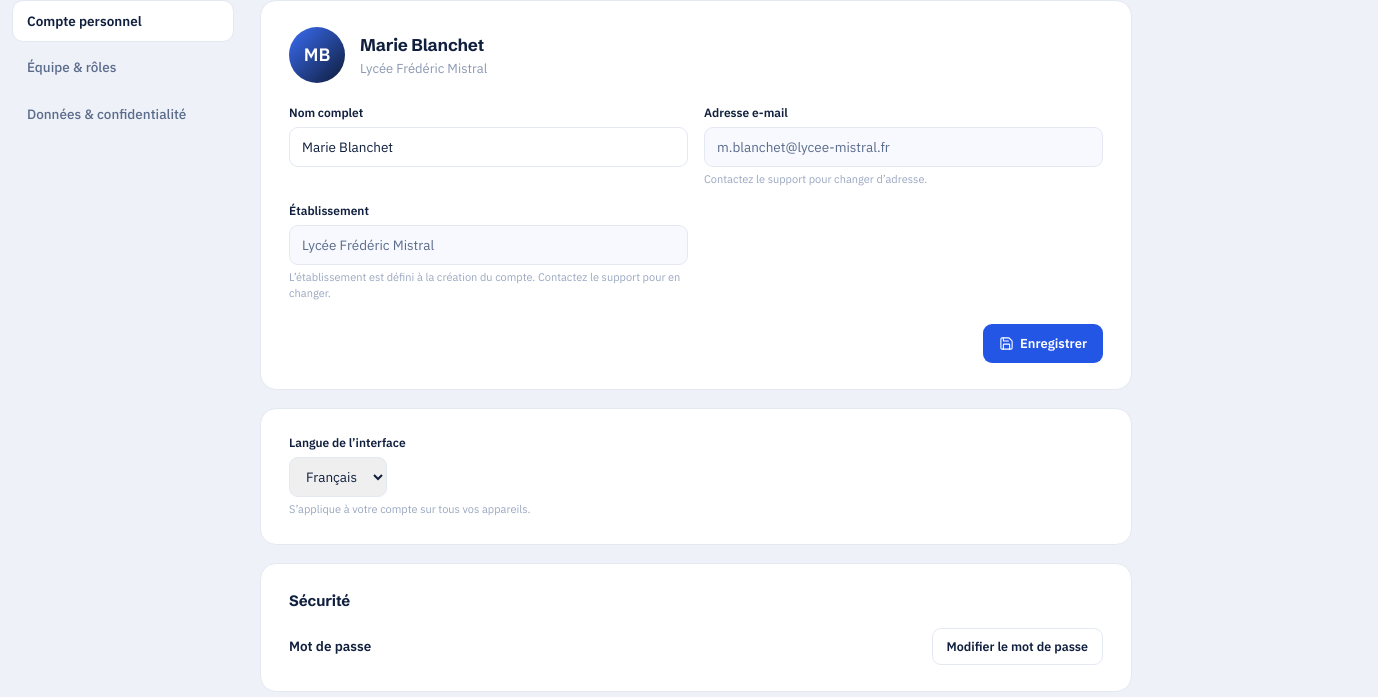
Test case: SettingsView — Compte › password panel: a structured failure is shown verbatim and the panel stays open
Click the button "Modifier le mot de passe": (1017, 646) [932,628,1103,665]
(page scrolled)
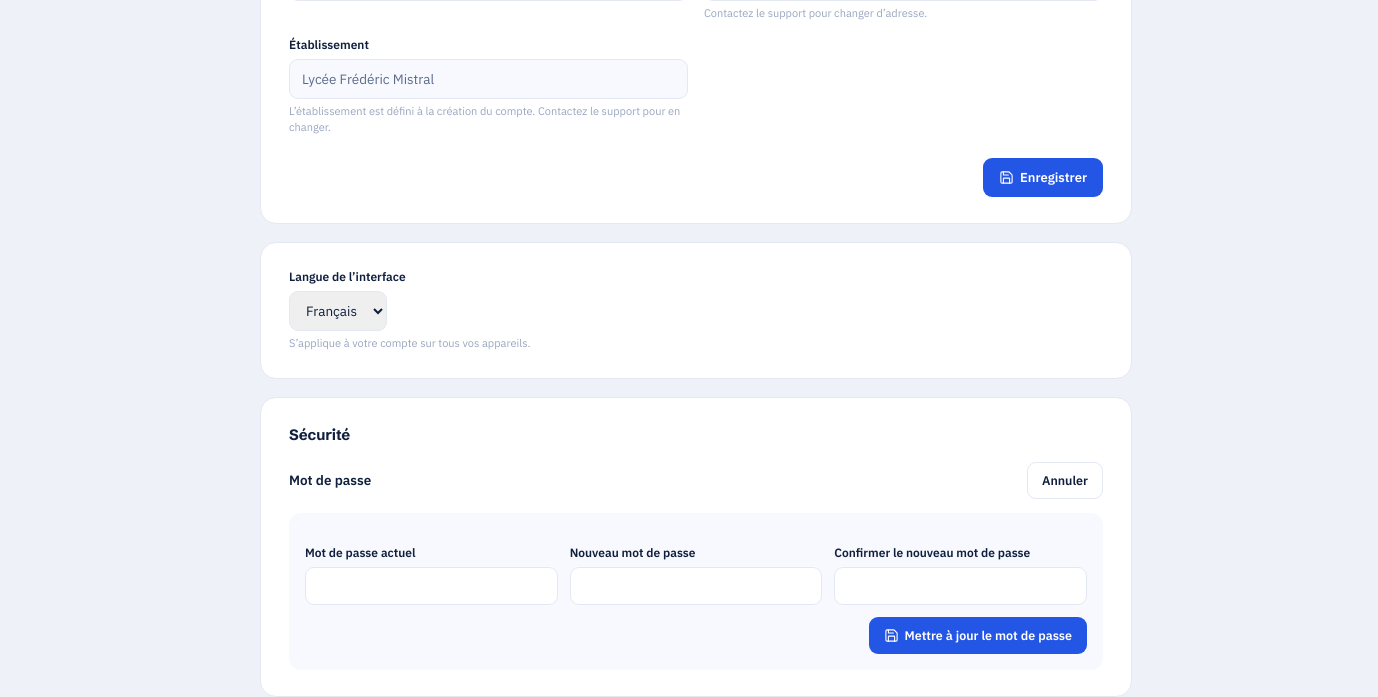
In the password field labelled "Mot de passe actuel": (431, 586) [305,567,558,605], type "wrongpassword"
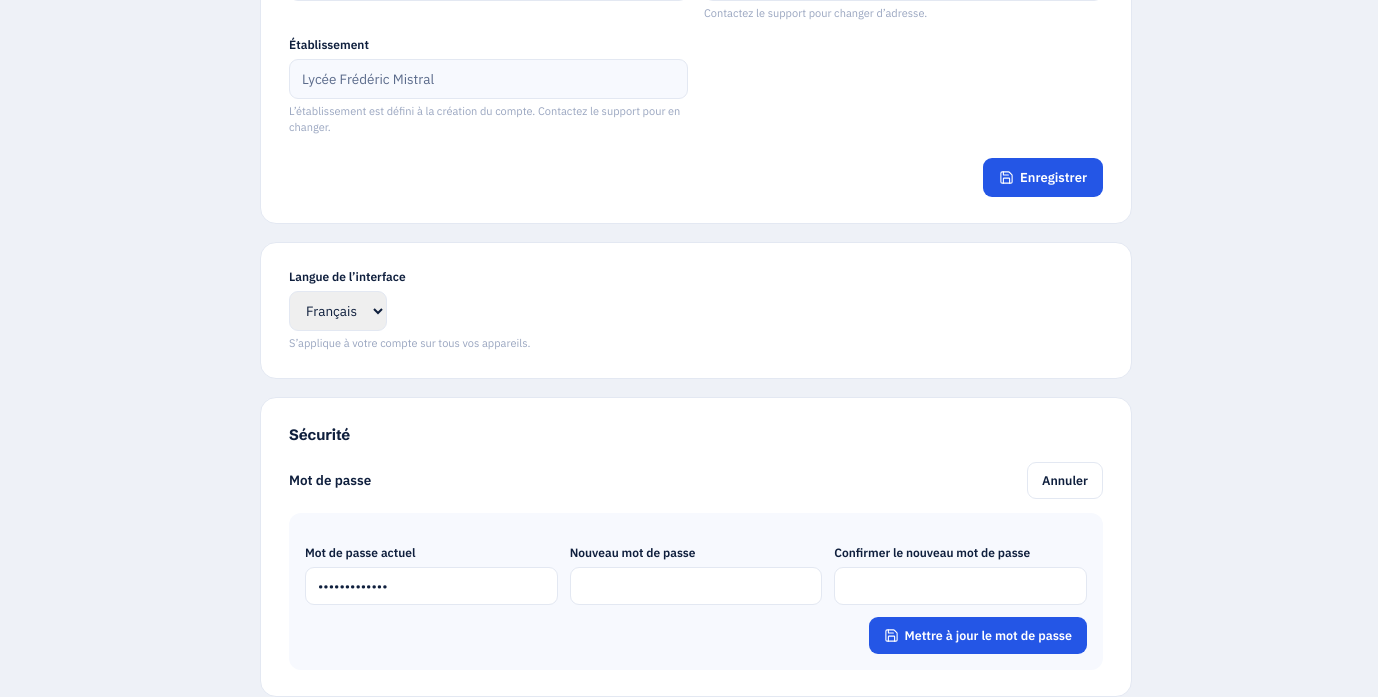
In the password field labelled "Nouveau mot de passe": (696, 586) [570,567,822,605], type "newpassword"
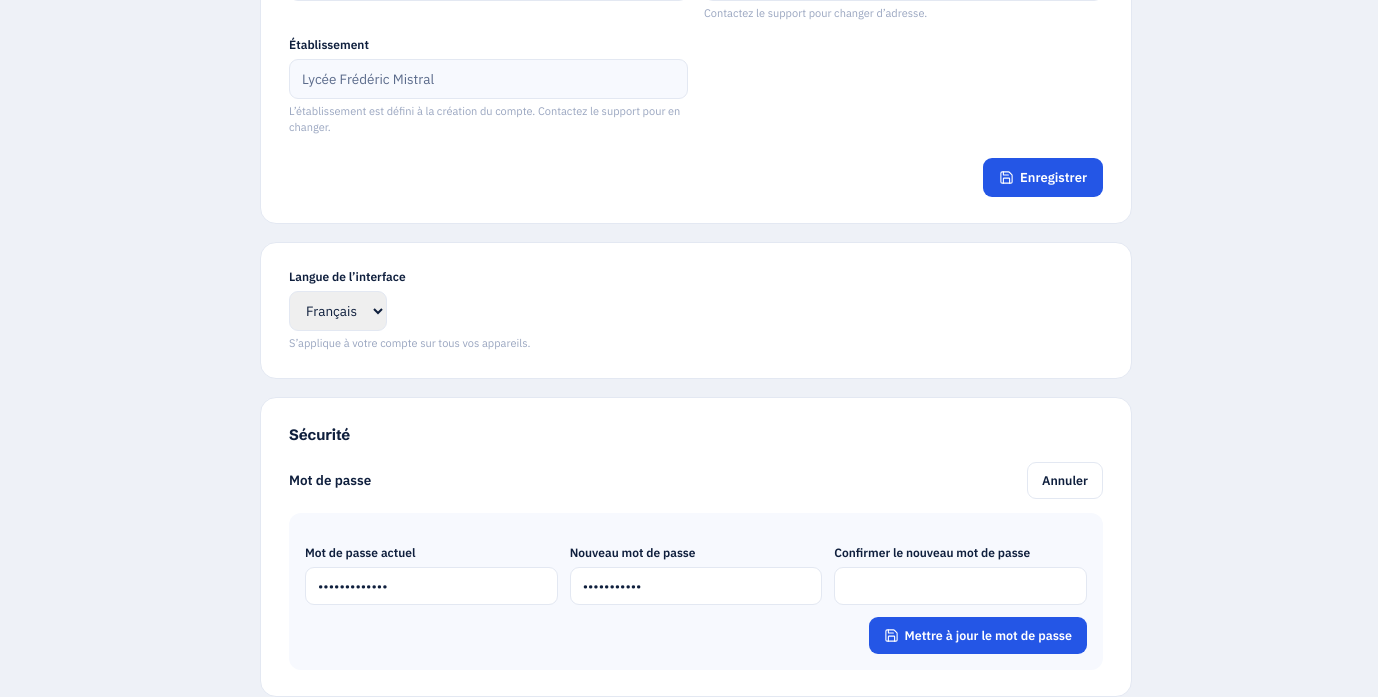
In the password field labelled "Confirmer le nouveau mot de passe": (961, 586) [834,567,1087,605], type "newpassword"
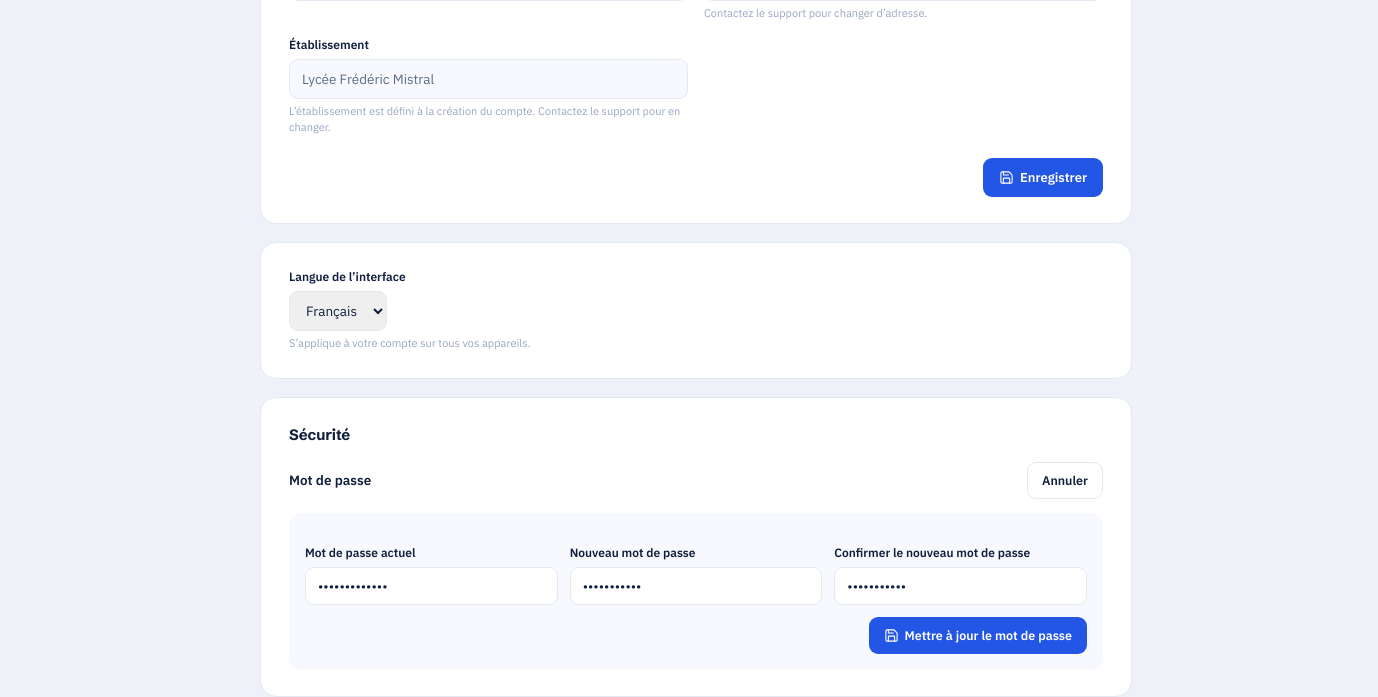
Click the button "Mettre à jour le mot de passe": (978, 635) [868,617,1087,654]
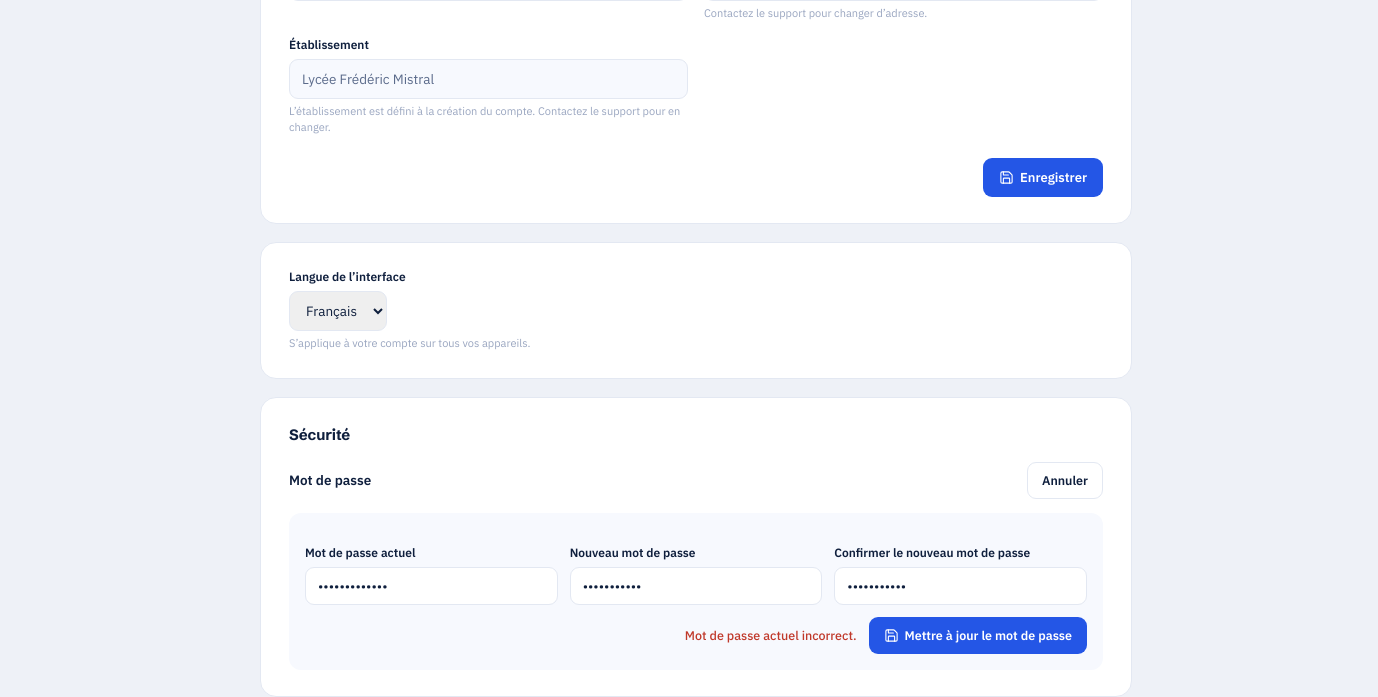
Check: the text "Mot de passe actuel incorrect." is shown, box [685,626,857,645]
